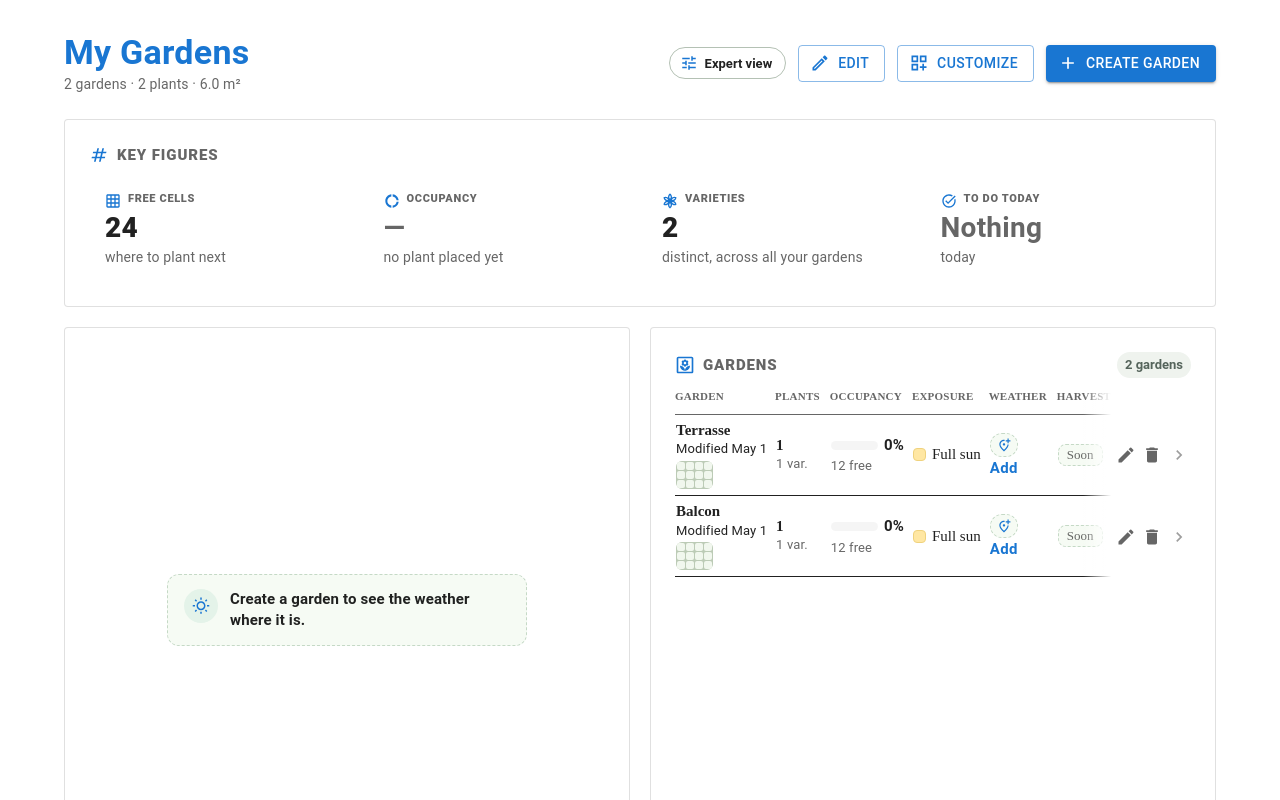
Scenario: the Counters widget options (artboard A8) › picking a garden filters the widget and persists the choice
Click the button "Edit". click: (842,63)
box: [798,45,885,82]
(page scrolled)
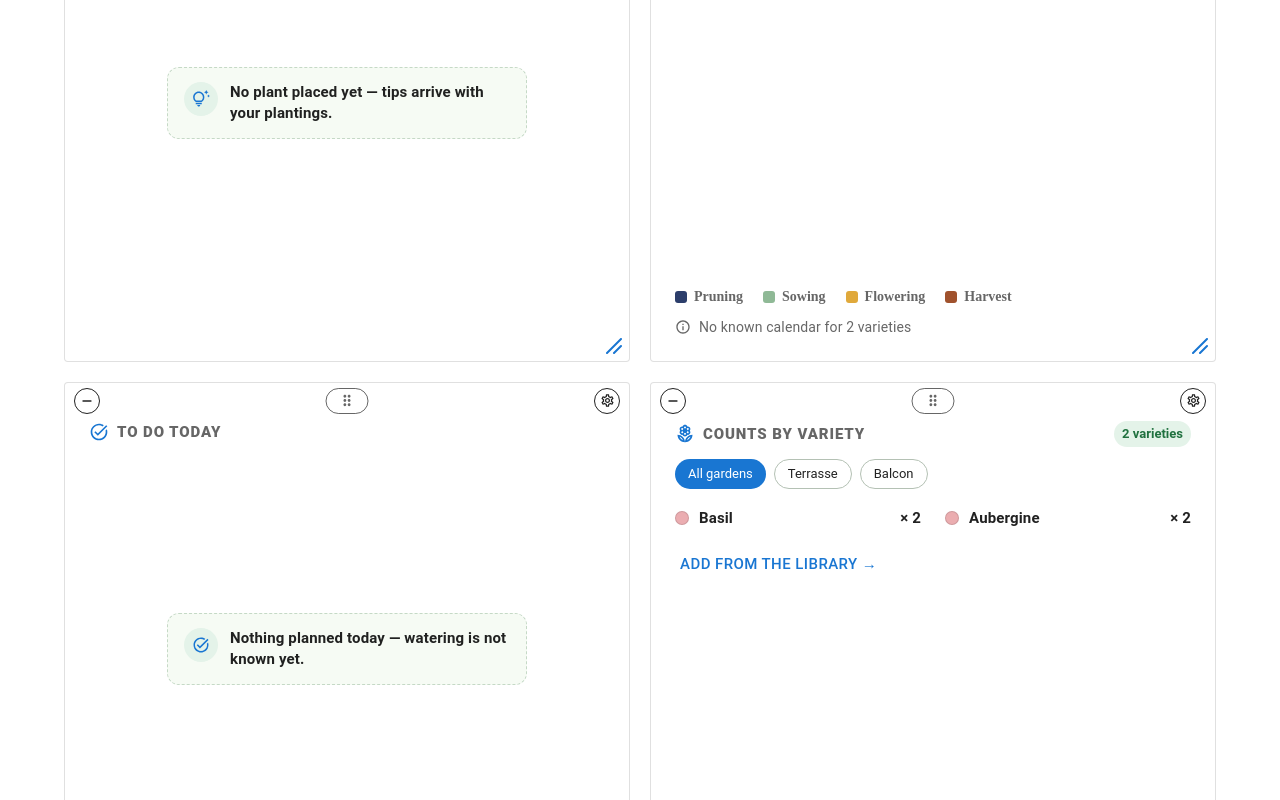
Click the button named "Counts by variety options". click: (1193,401)
box: [1180,388,1206,414]
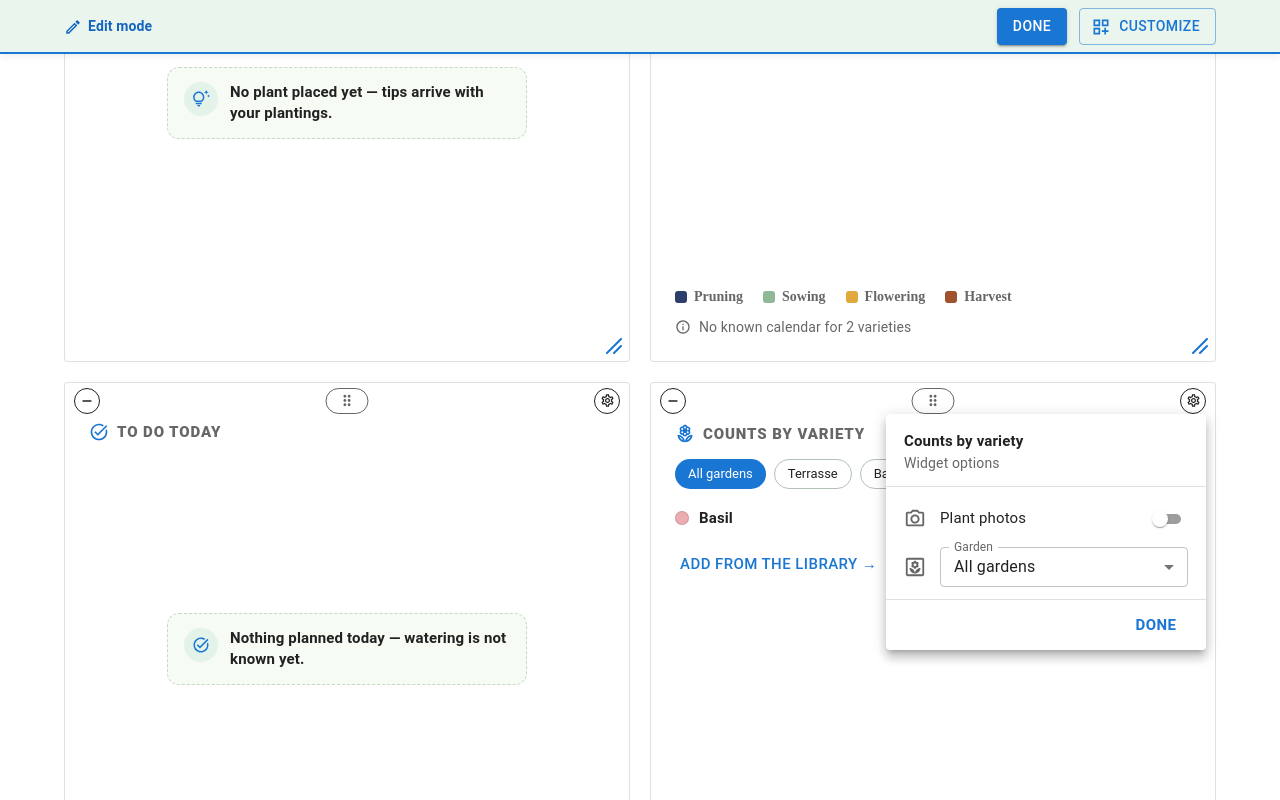
Press the mouse on the dropdown labelled "garden" at (995,566), box [954,557,1035,576]
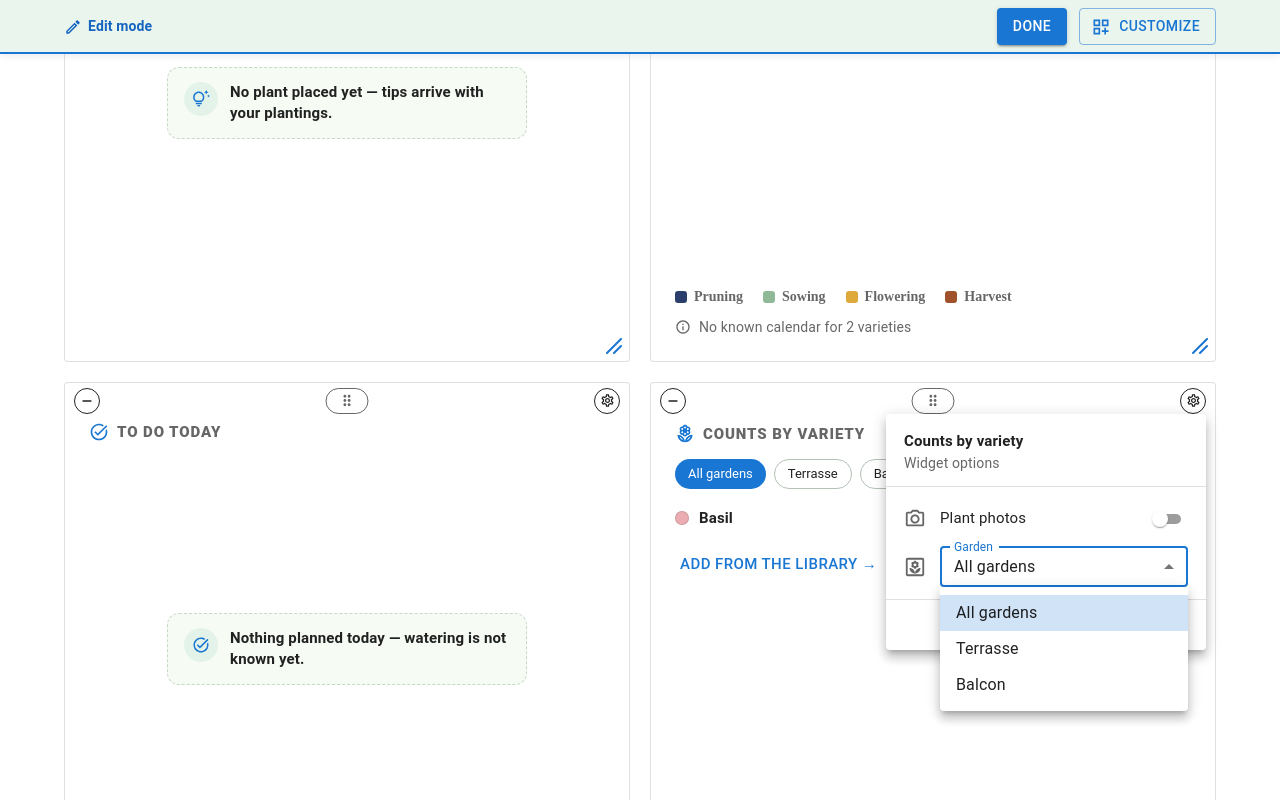
Click the option "Balcon". click: (981,684)
box: [956,675,1006,694]
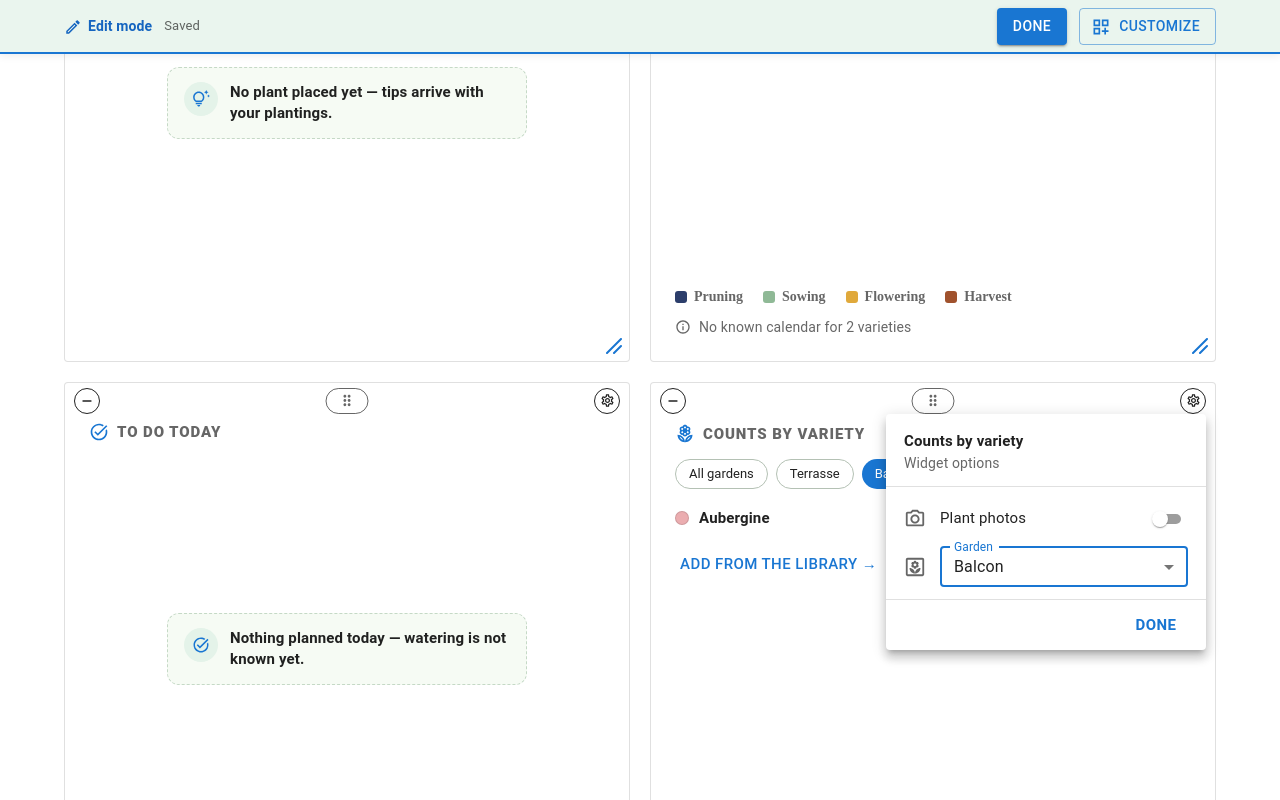
Check: the text "Aubergine" is shown, box [699,509,770,527]
Check: the text "Basil" is gone
